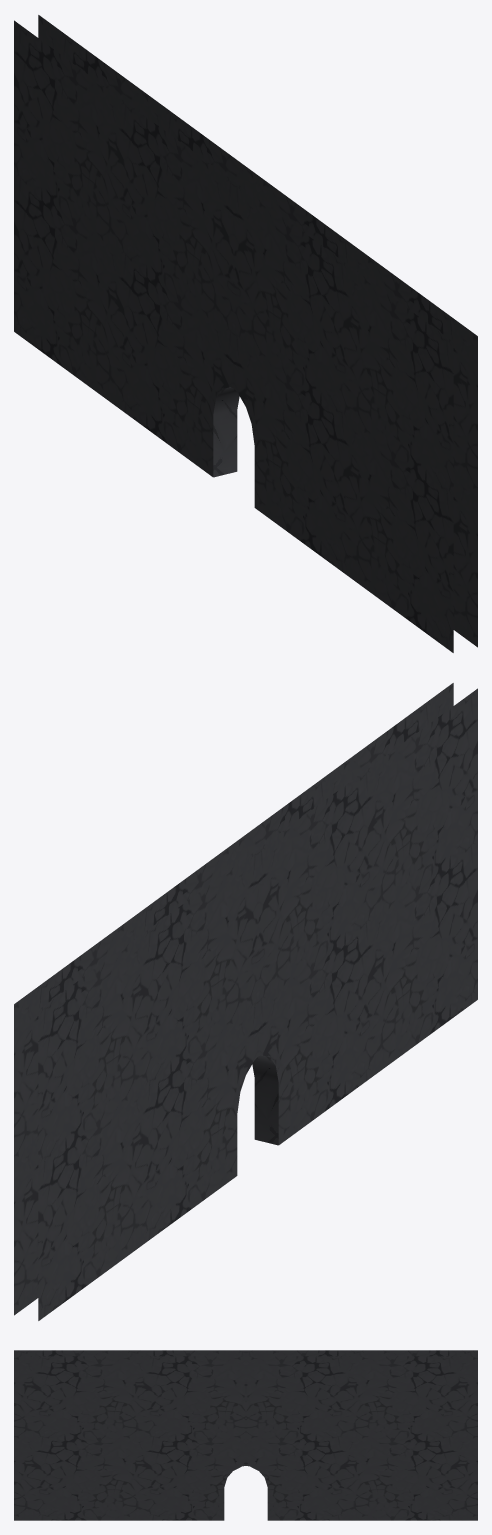
File: Mur_Porte_Catacombes.FBX
3 views of the same model, one above another, from view 1: azimuth 30°, elevation 25°; view 2: azimuth 150°, elevation 25°; view 3: azimuth 270°, elevation 25° (orthographic). The views are drawn at different scales.
Parts seen in each view (by area): view 1: Mur_Porte_Catacombes; view 2: Mur_Porte_Catacombes; view 3: Mur_Porte_Catacombes.
Boxes of the visible parts, <box> form: Mur_Porte_Catacombes: <box>14,15,477,652</box>; Mur_Porte_Catacombes: <box>14,683,477,1320</box>; Mur_Porte_Catacombes: <box>14,1350,477,1520</box>.
Bounding box in the file's own units: 50.86 × 625 × 1600.
Materials: 1 (1 with a texture image).
